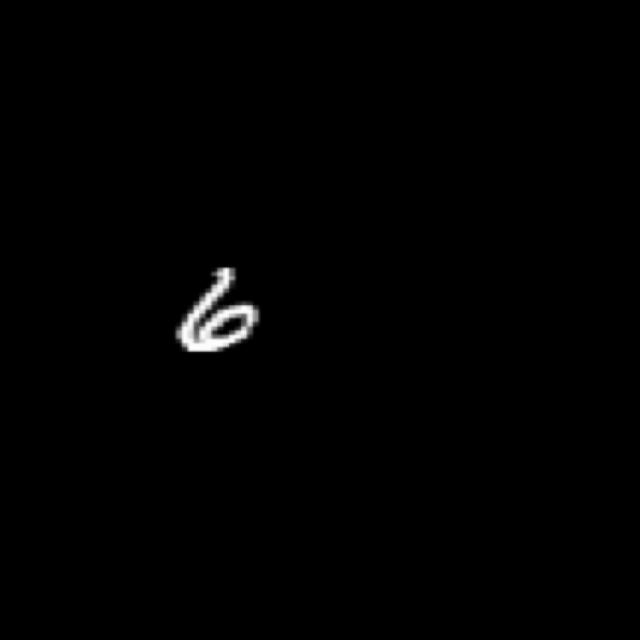six -6-: (161, 262, 266, 356)
